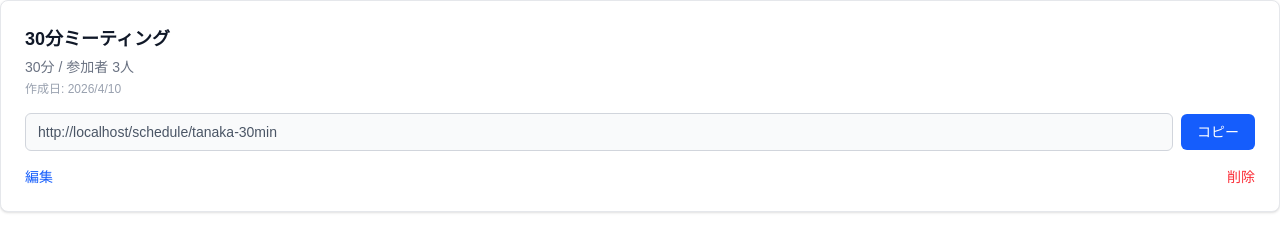
Test: ScheduleLinkCard › should copy URL on copy button click
Click the button "コピー": (1218, 132) [1181,114,1255,150]
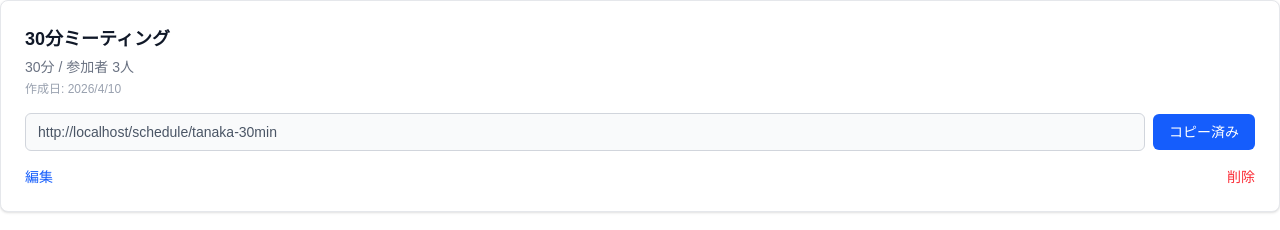
expect the button "コピー済み" is shown: met, box [1153,114,1255,150]
